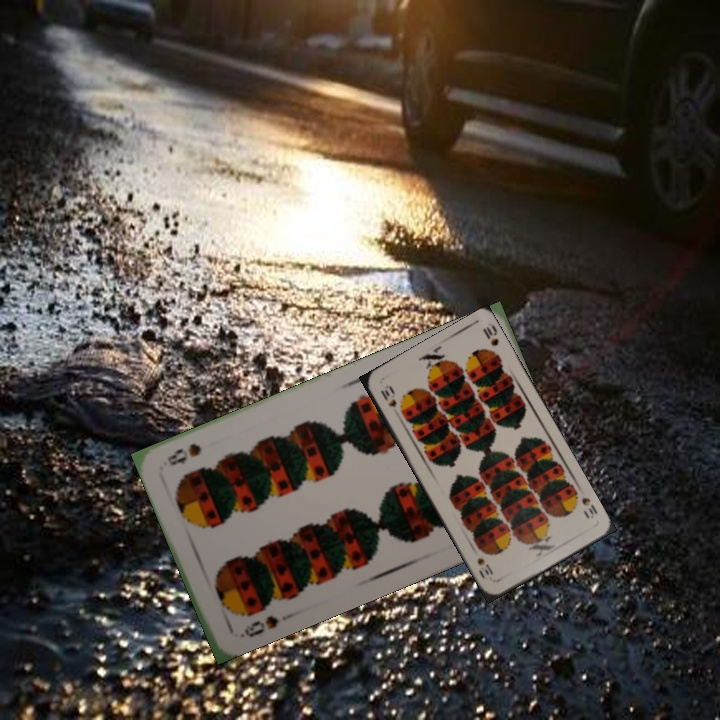S10: (577, 493, 600, 521), (377, 386, 399, 410)
S8: (235, 611, 281, 640)
